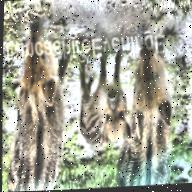boar: (104, 37, 188, 188), (14, 15, 77, 191), (71, 36, 135, 156)
